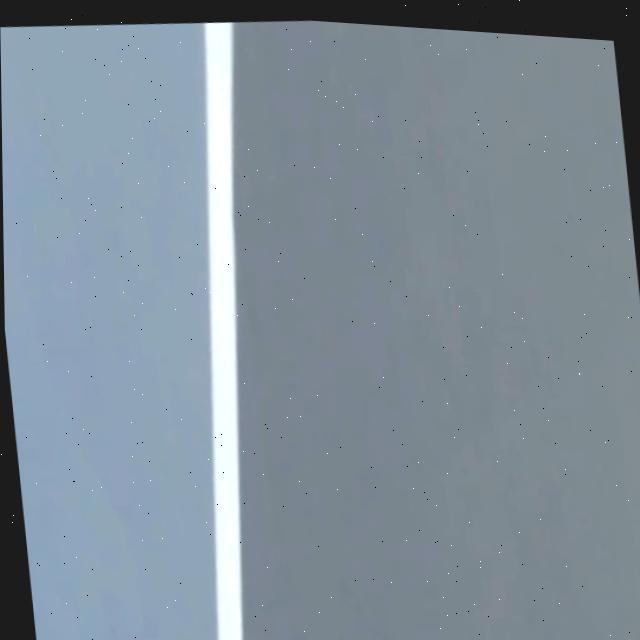left: (202, 22, 242, 640)
